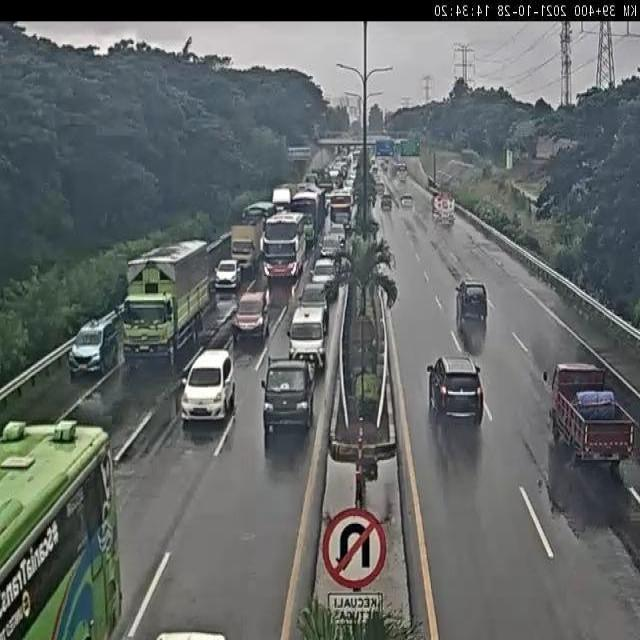Bus: (0, 413, 121, 640)
Car: (260, 356, 318, 446), (423, 352, 487, 422), (180, 347, 236, 423), (70, 311, 122, 379), (287, 301, 329, 368), (232, 286, 272, 342), (456, 279, 488, 336), (213, 259, 242, 292)
Truck: (111, 237, 217, 366), (549, 355, 634, 476), (261, 206, 306, 279), (226, 208, 265, 266)
